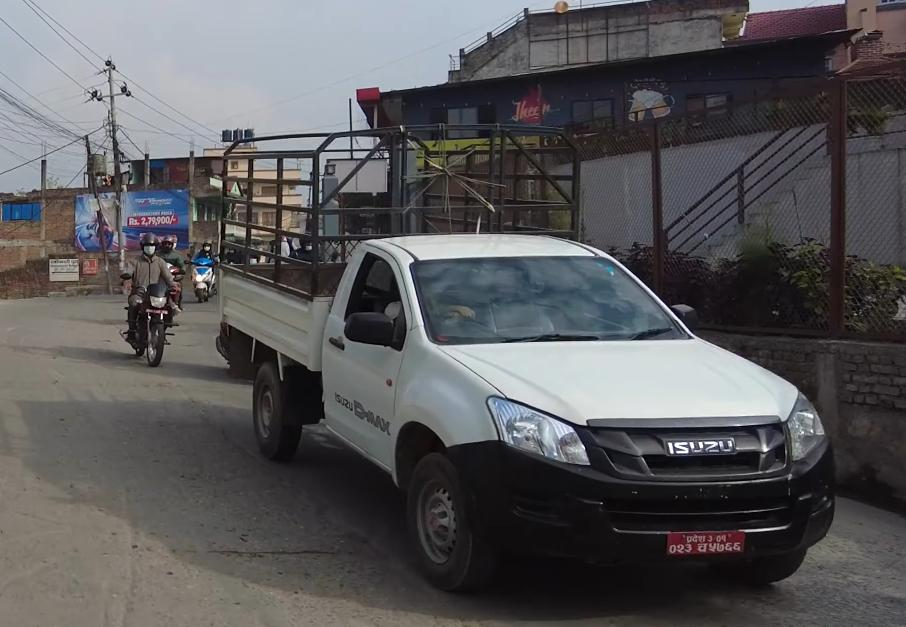bike: (116, 229, 185, 379)
scooter: (182, 225, 226, 311)
transport_vehicle: (208, 125, 838, 592)
